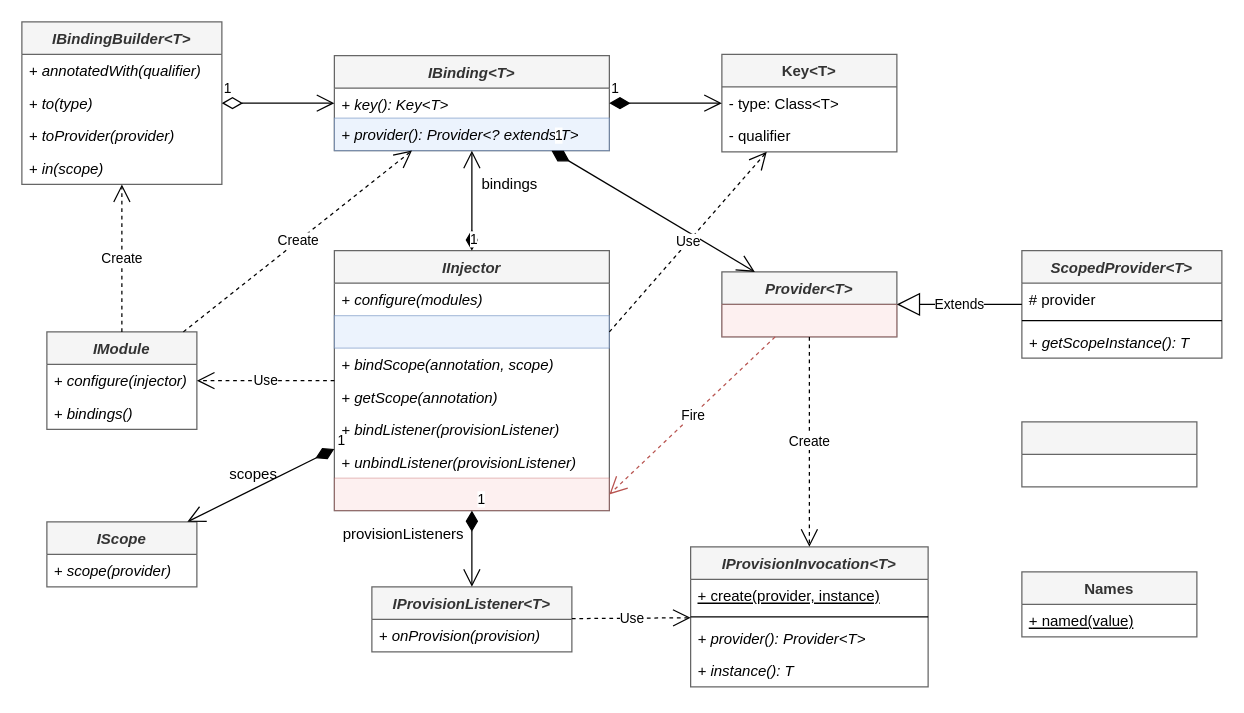
Image size: 1244x713. Some labels were removed from this diagram. The shapes that lost their labels are listed below. From the top down, each one's centre as x and y in pixels, then its label:
(x=471, y=331): + getInstance(type, qualifier)
(x=809, y=320): + get(): T
(x=1109, y=454): @ThreadScoped
(x=471, y=494): + fireEvent(provisionInvocation)
